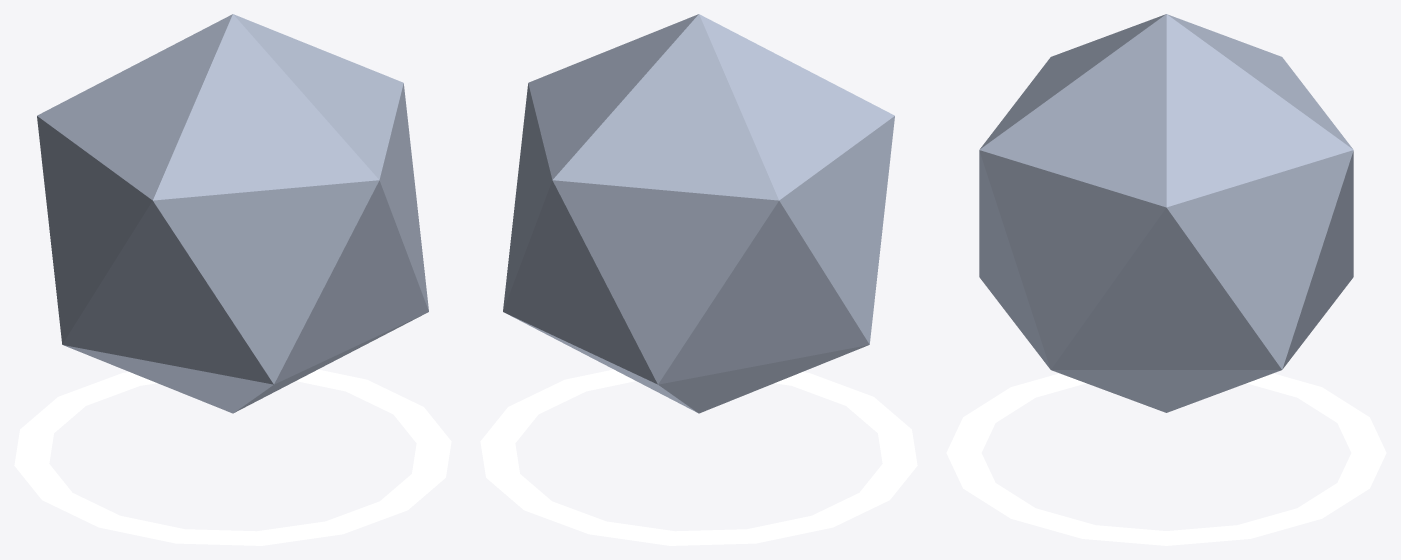
The picture shows the model from 3 angles, left to right: view 1: azimuth 30°, elevation 25°; view 2: azimuth 150°, elevation 25°; view 3: azimuth 270°, elevation 25°; orthographic projection.
Visible parts, largest first — view 1: emblem_frontera.lod1; view 2: emblem_frontera.lod1; view 3: emblem_frontera.lod1.
Boxes of the visible parts, box(x1,y1,x2,y2) form: emblem_frontera.lod1: box(14, 14, 451, 545); emblem_frontera.lod1: box(480, 14, 917, 545); emblem_frontera.lod1: box(946, 14, 1386, 545).
Bounding box in the file's own units: 1 × 1.1 × 1.
